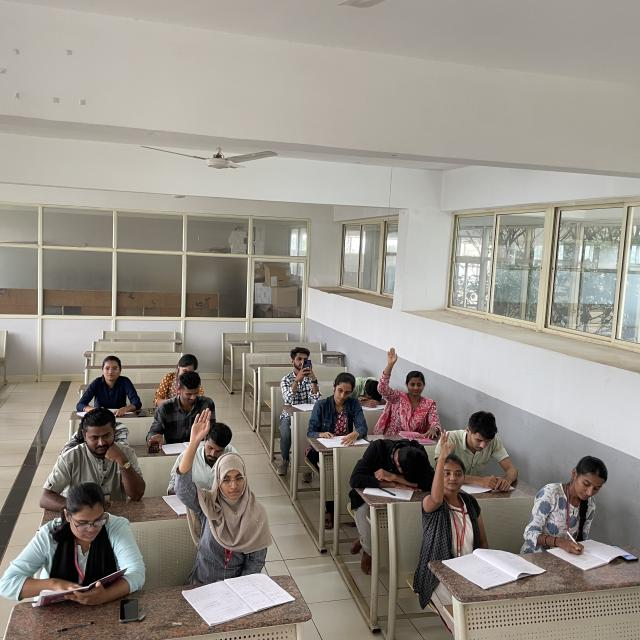Hand Rising: (173, 407, 273, 596), (419, 426, 486, 556), (376, 348, 442, 432)
Reading: (11, 478, 147, 620), (454, 411, 519, 492), (312, 371, 369, 447)
Sleeping: (354, 432, 436, 498), (352, 370, 386, 410)
Using Phone: (48, 408, 146, 512), (280, 346, 322, 409)
Writing: (530, 450, 618, 564), (168, 422, 224, 514)
